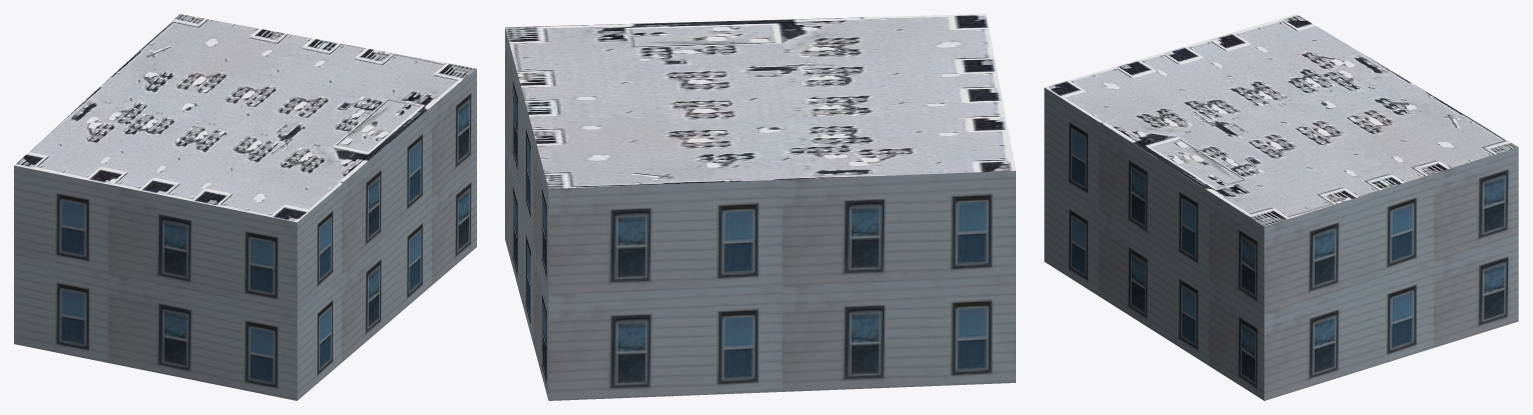
Rendered from ResTex__1477.fbx.
3 views of the same model, side by side, from view 1: azimuth 30°, elevation 25°; view 2: azimuth 150°, elevation 25°; view 3: azimuth 270°, elevation 25° (orthographic). The views are drawn at different scales.
Visible parts, largest first — view 1: CityEngineMaterial_18_m, CityEngineMaterial_m; view 2: CityEngineMaterial_18_m, CityEngineMaterial_m; view 3: CityEngineMaterial_18_m, CityEngineMaterial_m.
Part boxes in pixels (x1=…): CityEngineMaterial_18_m: x1=14, y1=69, x2=476, y2=400; CityEngineMaterial_m: x1=14, y1=14, x2=476, y2=222; CityEngineMaterial_18_m: x1=505, y1=28, x2=1015, y2=400; CityEngineMaterial_m: x1=505, y1=14, x2=1015, y2=188; CityEngineMaterial_18_m: x1=1044, y1=87, x2=1518, y2=400; CityEngineMaterial_m: x1=1044, y1=14, x2=1518, y2=226.
Bounding box in the file's own units: 15.7 × 6 × 14.8.
Materials: 2 (2 with a texture image).
